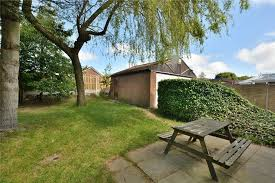obstacle: (158, 112, 253, 179)
